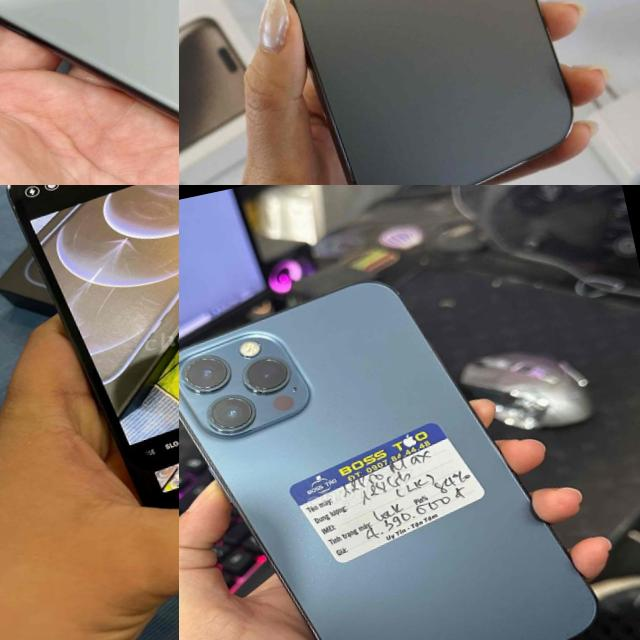gen_11: (0, 0, 179, 120)
gen_12_13: (179, 245, 614, 640), (184, 0, 591, 185), (0, 185, 179, 560)
